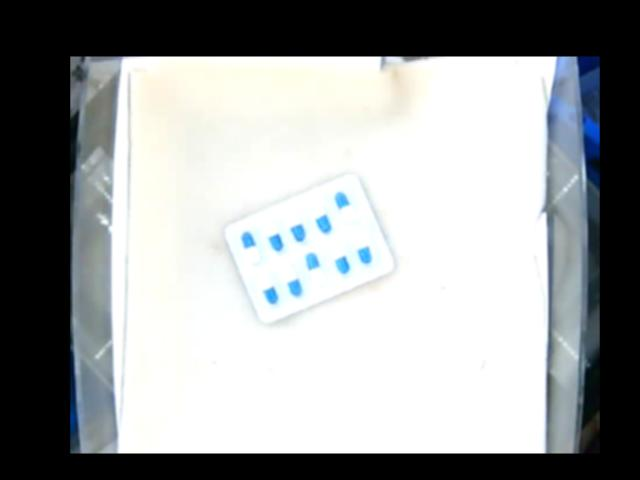Medicine: (223, 176, 397, 318)
